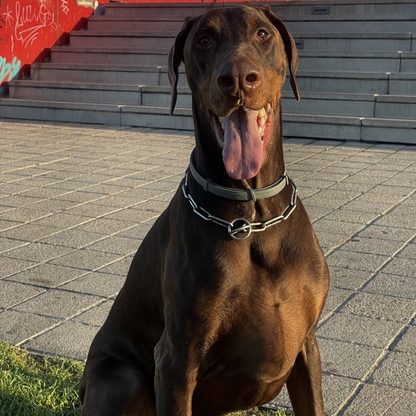doberman: (121, 8, 329, 404)
